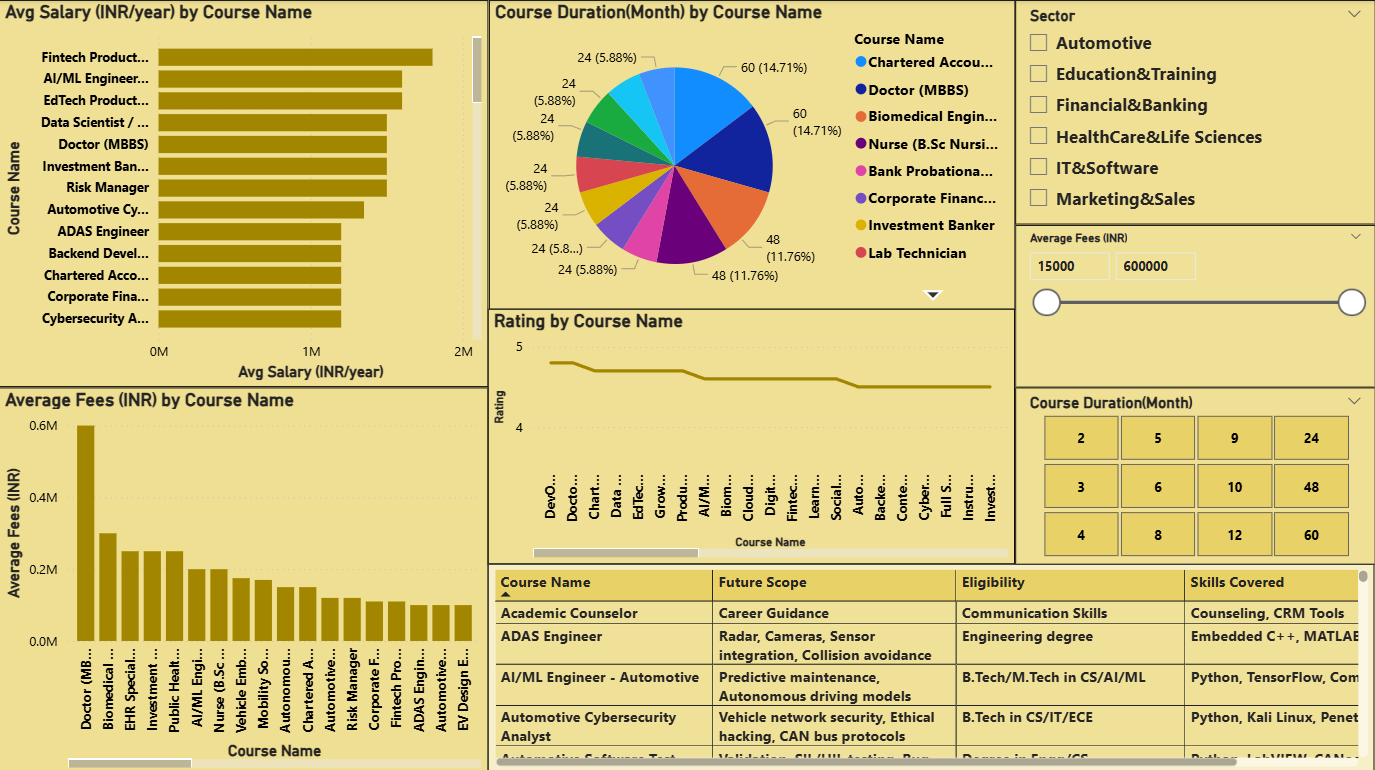

What the dashboard file says about the page in this screenshot:
{"tool":"powerbi","page":{"name":"Page 1","canvas":[1280,720],"ordinal":0},"visuals":[{"type":"pieChart","fields":{"Category":["Sheet7.Course Name"],"Y":["Sum(Sheet7.Course Duration(Month))"]},"box":[455.6,0,489.9,288.2],"z":0},{"type":"slicer","fields":{"Values":["Sheet7.Sector"]},"box":[945,0,335,208.8],"z":1000},{"type":"slicer","fields":{"Values":["Sheet7.Course Duration(Month)"]},"box":[945,360,335,165],"z":2000},{"type":"lineChart","fields":{"Category":["Sheet7.Course Name"],"Y":["Sum(Sheet7.Rating)"]},"box":[455,287.5,490,237.5],"z":3000},{"type":"lineStackedColumnComboChart","fields":{"Category":["Sheet7.Course Name"],"Y":["Sum(Sheet7.Average Fees (INR))"]},"box":[0,360,455,360],"z":4000},{"type":"tableEx","fields":{"Values":["Sheet7.Course Name","Sheet7.Future Scope","Sheet7.Eligibility","Sheet7.Skills Covered"]},"box":[455,525,825,195],"z":5000},{"type":"barChart","fields":{"Y":["Sum(Sheet7.Avg Salary (INR/year))"],"Category":["Sheet7.Course Name"]},"box":[0,0,455,360],"z":6000},{"type":"slicer","fields":{"Values":["Sheet7.Average Fees (INR)"]},"box":[945,208.8,335,151.2],"z":7000}]}

Visuals, with their boxes in screenshot pixels (x1, y1, x2, y2), scaled from the page's 1280x720 canvas onto the 1375x770 screenshot:
pieChart - Sheet7.Course Name x Sum(Sheet7.Course Duration(Month)): left=489, top=0, right=1016, bottom=308
slicer - Sheet7.Sector: left=1015, top=0, right=1374, bottom=223
slicer - Sheet7.Course Duration(Month): left=1015, top=385, right=1374, bottom=561
lineChart - Sheet7.Course Name x Sum(Sheet7.Rating): left=489, top=307, right=1015, bottom=561
lineStackedColumnComboChart - Sheet7.Course Name x Sum(Sheet7.Average Fees (INR)): left=0, top=385, right=489, bottom=769
tableEx - Sheet7.Course Name x Sheet7.Future Scope: left=489, top=561, right=1374, bottom=769
barChart - Sum(Sheet7.Avg Salary (INR/year)) x Sheet7.Course Name: left=0, top=0, right=489, bottom=385
slicer - Sheet7.Average Fees (INR): left=1015, top=223, right=1374, bottom=385
